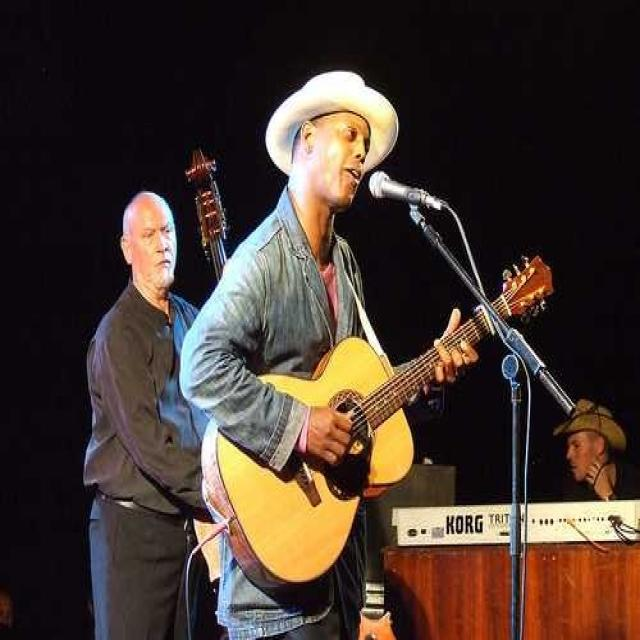microphone: (367, 167, 445, 216)
